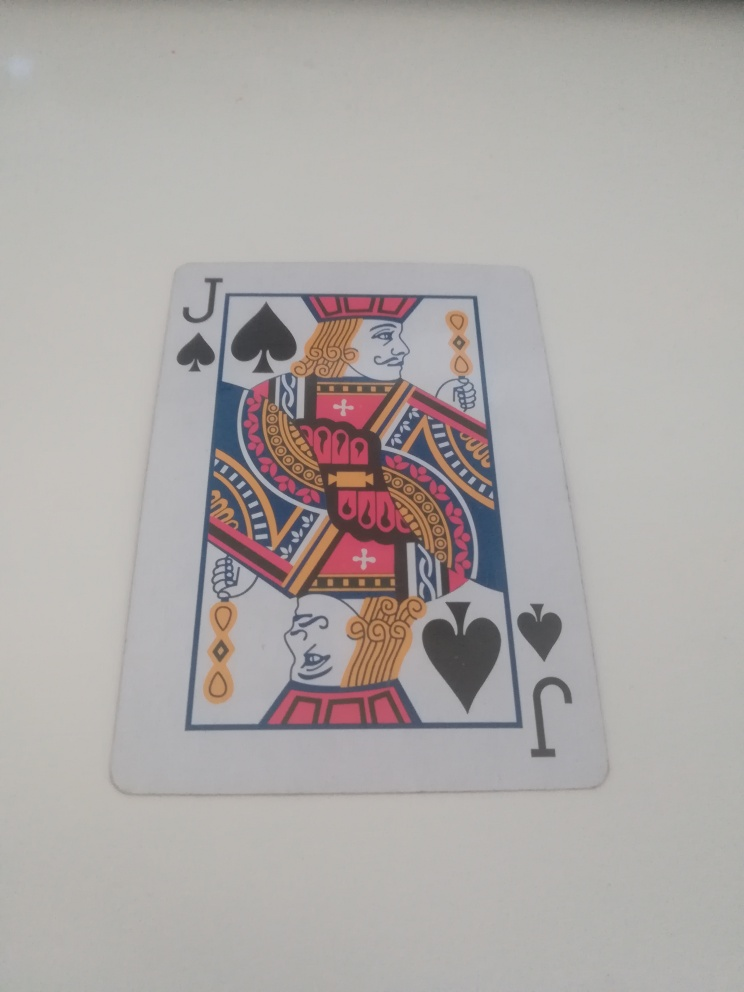JS: (169, 272, 230, 374)
